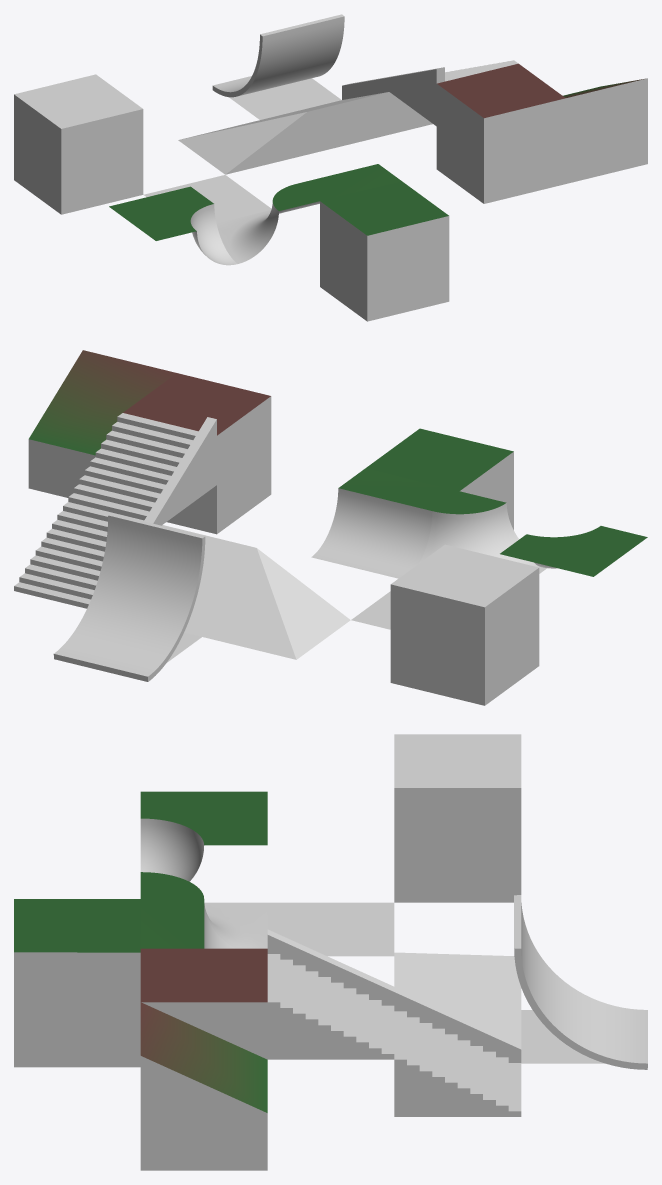
File: skatepark.fbx
3 views of the same model, one above another, from view 1: azimuth 30°, elevation 25°; view 2: azimuth 150°, elevation 25°; view 3: azimuth 270°, elevation 25° (orthographic). The views are drawn at different scales.
Visible parts, largest first — view 1: Cube.001, floorX, platformX, halfpipeT, floor-rampT, basin-rampL, basin-innieL, basin-rampT, basin-outieL, floor-stairT, basin-floorX, basin-T (+1 smaller); view 2: Cube.001, halfpipeT, platformX, floor-stairT, floor-rampT, basin-T, basin-rampL, basin-stairT, floorX, basin-outieL, basin-innieL, basin-rampT (+1 smaller); view 3: Cube.001, floorX, floor-rampT, floor-stairT, basin-stairT, halfpipeT, platformX, basin-innieL, basin-floorX, basin-rampT, basin-outieL, basin-T (+1 smaller).
Boxes of the visible parts, left/top/right/bottom form: Cube.001: left=14, top=74, right=143, bottom=214; floorX: left=320, top=181, right=449, bottom=321; platformX: left=436, top=63, right=565, bottom=203; halfpipeT: left=212, top=14, right=344, bottom=119; floor-rampT: left=563, top=78, right=647, bottom=183; basin-rampL: left=178, top=112, right=307, bottom=174; basin-innieL: left=109, top=186, right=237, bottom=265; basin-rampT: left=263, top=92, right=389, bottom=154; basin-outieL: left=216, top=184, right=319, bottom=263; floor-stairT: left=389, top=60, right=517, bottom=126; basin-floorX: left=143, top=175, right=271, bottom=222; basin-T: left=286, top=164, right=401, bottom=211; Cube.001: left=390, top=544, right=539, bottom=705; halfpipeT: left=53, top=513, right=205, bottom=681; platformX: left=123, top=373, right=271, bottom=534; floor-stairT: left=68, top=413, right=216, bottom=524; floor-rampT: left=28, top=350, right=176, bottom=497; basin-T: left=311, top=468, right=459, bottom=578; basin-rampL: left=202, top=548, right=350, bottom=659; basin-stairT: left=14, top=502, right=162, bottom=608; floorX: left=366, top=428, right=513, bottom=529; basin-outieL: left=419, top=491, right=546, bottom=573; basin-innieL: left=500, top=526, right=647, bottom=576; basin-rampT: left=162, top=525, right=256, bottom=636; Cube.001: left=394, top=734, right=521, bottom=902; floorX: left=14, top=899, right=140, bottom=1067; floor-rampT: left=140, top=1002, right=267, bottom=1170; floor-stairT: left=267, top=929, right=394, bottom=1059; basin-stairT: left=394, top=987, right=521, bottom=1116; halfpipeT: left=514, top=895, right=647, bottom=1069; platformX: left=140, top=948, right=267, bottom=1059; basin-innieL: left=140, top=791, right=267, bottom=881; basin-floorX: left=267, top=902, right=394, bottom=956; basin-rampT: left=394, top=952, right=521, bottom=1043; basin-outieL: left=140, top=872, right=267, bottom=948; basin-T: left=140, top=899, right=235, bottom=948.
Bounding box in the file's own units: 1200 × 334 × 1000.
